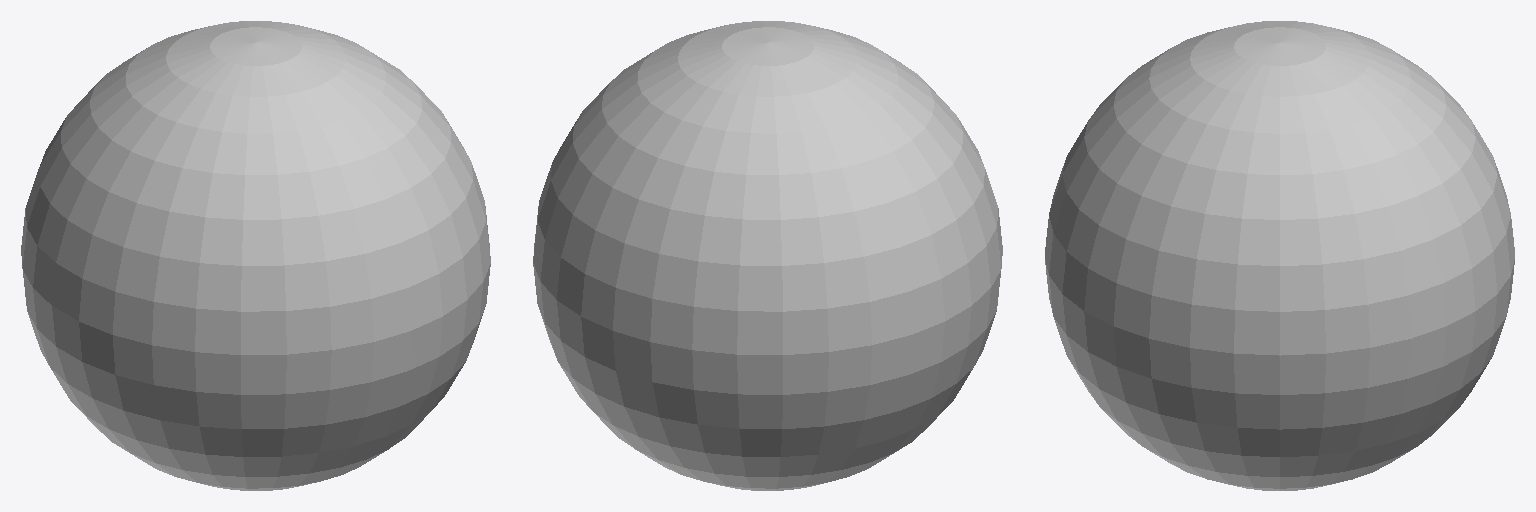
Rendered from saturnoPlaneta.obj.
3 views of the same model, side by side, from view 1: azimuth 30°, elevation 25°; view 2: azimuth 150°, elevation 25°; view 3: azimuth 270°, elevation 25° (orthographic).
Visible parts, largest first — view 1: Sphere.007_Material.008_0; view 2: Sphere.007_Material.008_0; view 3: Sphere.007_Material.008_0.
Boxes of the visible parts, x1,y1,x2,y2 form: Sphere.007_Material.008_0: [21, 21, 490, 490]; Sphere.007_Material.008_0: [533, 21, 1002, 490]; Sphere.007_Material.008_0: [1045, 21, 1514, 490].
Bounding box in the file's own units: 2.42 × 2.42 × 2.42.